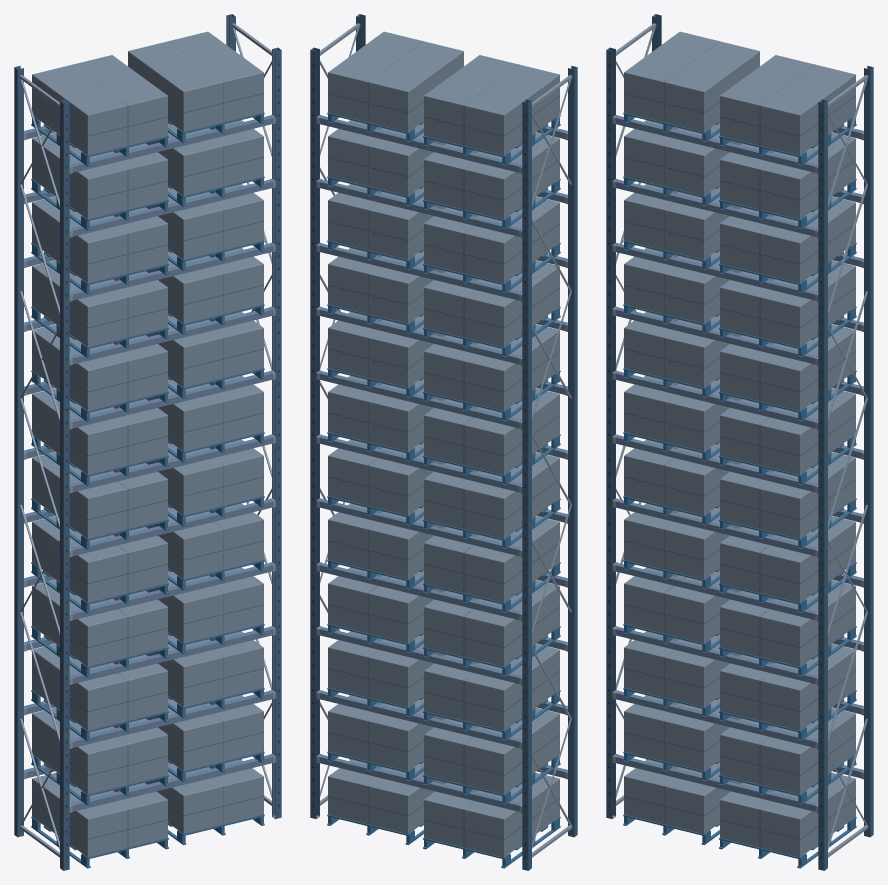
The model's file is SM_GHS_CADRack_B_W27219.fbx.
3 renders of one model, left to right at view 1: azimuth 30°, elevation 25°; view 2: azimuth 150°, elevation 25°; view 3: azimuth 330°, elevation 25°, orthographic.
Parts seen in each view (by area): view 1: SM_GHS_CADRack_B_W27219; view 2: SM_GHS_CADRack_B_W27219; view 3: SM_GHS_CADRack_B_W27219.
Part boxes in pixels (x1,y1,x2,y2): SM_GHS_CADRack_B_W27219: (14, 14, 281, 870); SM_GHS_CADRack_B_W27219: (310, 14, 577, 870); SM_GHS_CADRack_B_W27219: (606, 14, 873, 870).
Size of the model in its own units: 272 by 122 by 915.
